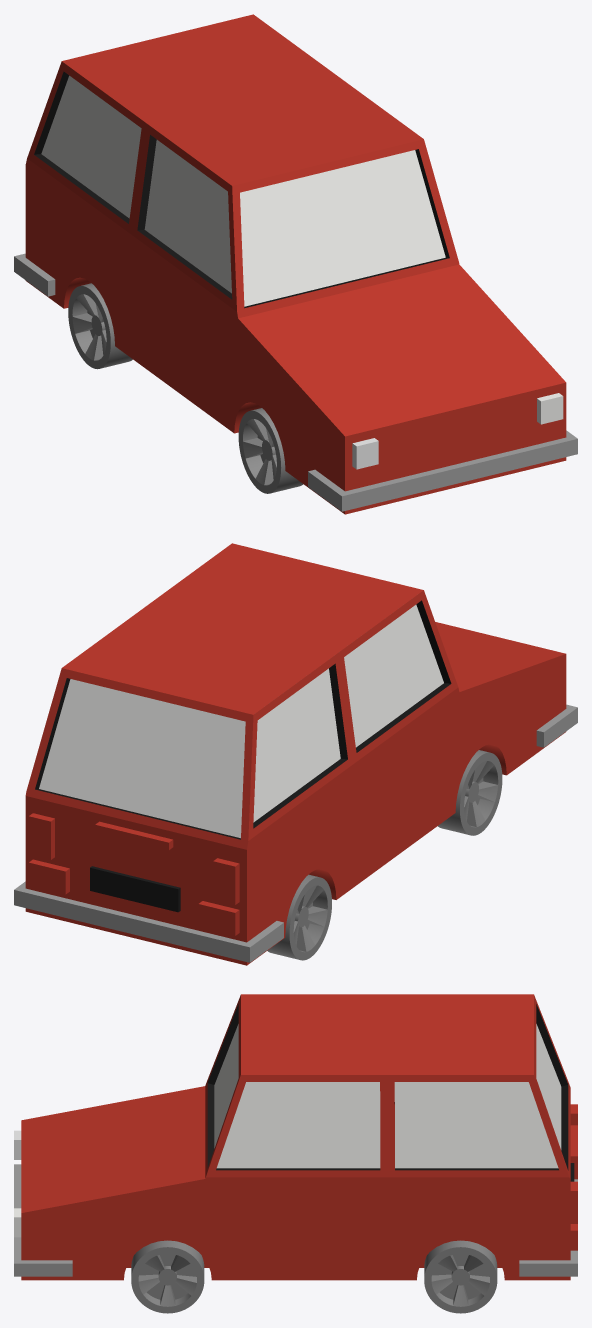
The model's file is FirstCar v13.fbx.
3 views of the same model, one above another, from view 1: azimuth 30°, elevation 25°; view 2: azimuth 150°, elevation 25°; view 3: azimuth 270°, elevation 25° (orthographic). The views are drawn at different scales.
Visible parts, largest first — view 1: Body1 (×5); view 2: Body1 (×7), Körper1 (×2); view 3: Body1 (×3).
Part boxes in pixels (x1,y1,x2,y2): Body1 (×5): (14, 14, 577, 514); Body1 (×7): (14, 543, 577, 965); Körper1 (×2): (28, 859, 239, 935); Body1 (×3): (14, 994, 577, 1313).
Size of the model in its own units: 640 by 700 by 1540.
